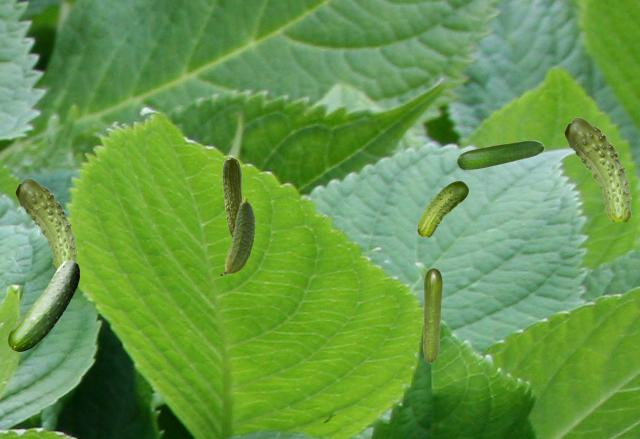cucumber: (564, 117, 631, 220), (8, 260, 78, 350), (15, 178, 77, 268), (417, 181, 467, 236), (220, 197, 254, 274), (456, 140, 543, 169), (423, 268, 441, 362), (222, 157, 242, 237)
